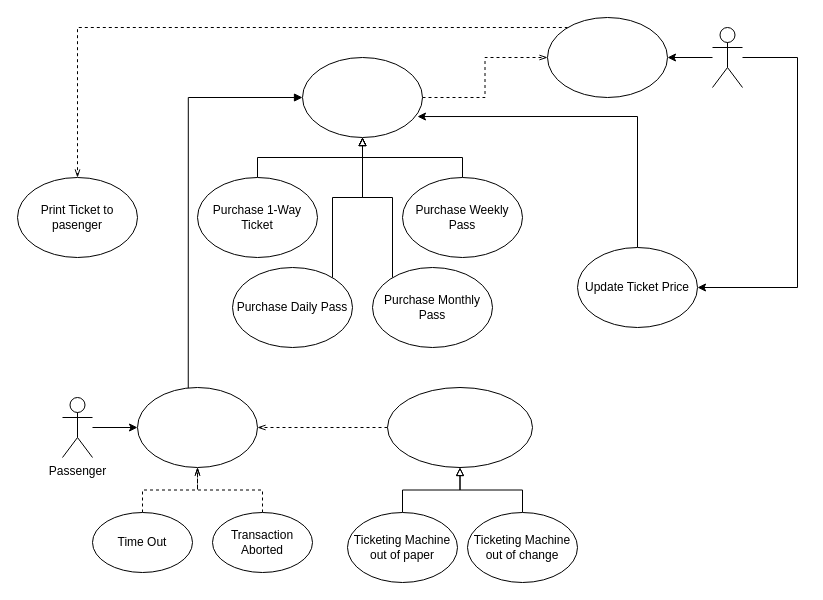
Image size: 823x600. Some labels were removed from this diagram. Here are the shapes that lost their labels. From the top down, the box of each, then its label:
(546, 16, 668, 98): Check Price on system
(712, 26, 742, 88): Computer System
(302, 56, 422, 138): Purchase Item
(136, 386, 258, 468): Access Ticketing System
(386, 386, 532, 468): Ticket Machine lacks Resources for any transaction
